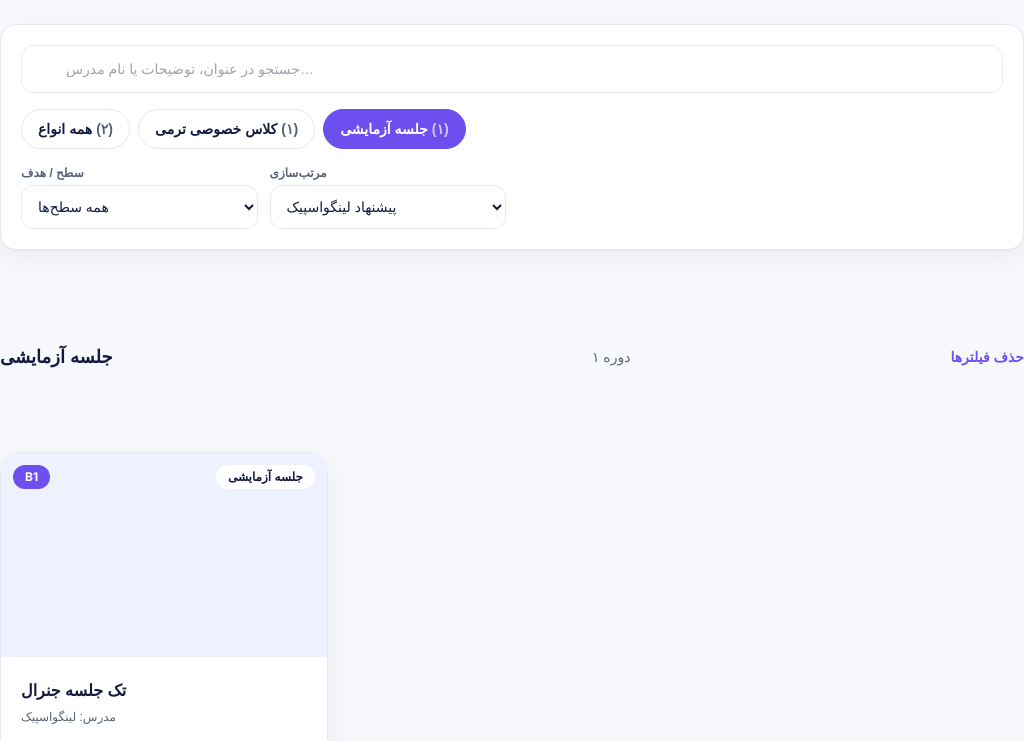
Test: CourseDirectory › opens on the single-session category and shows each class its trial session price
Expected: the link "تک جلسه جنرال" is shown, [21, 682, 126, 699]
Click the button "همه انواع (۲)" at (76, 129), box [21, 109, 130, 149]
(page scrolled)
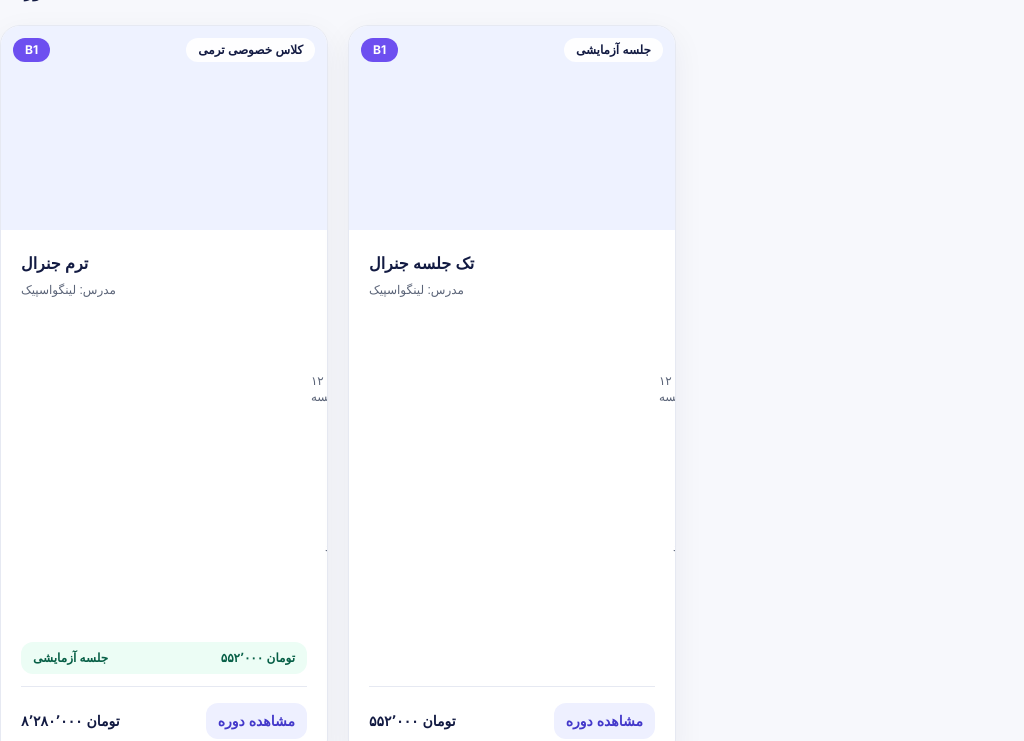
Expected: the link "جلسه آزمایشی ۵۵۲٬۰۰۰ تومان" is shown, [21, 642, 307, 674]
